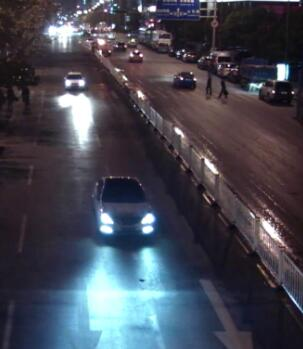bus: (150, 30, 171, 51)
car: (91, 172, 157, 244), (257, 76, 294, 105), (60, 70, 89, 91), (173, 68, 198, 91), (211, 48, 229, 71), (219, 63, 242, 79), (127, 48, 145, 65), (112, 38, 130, 50)
